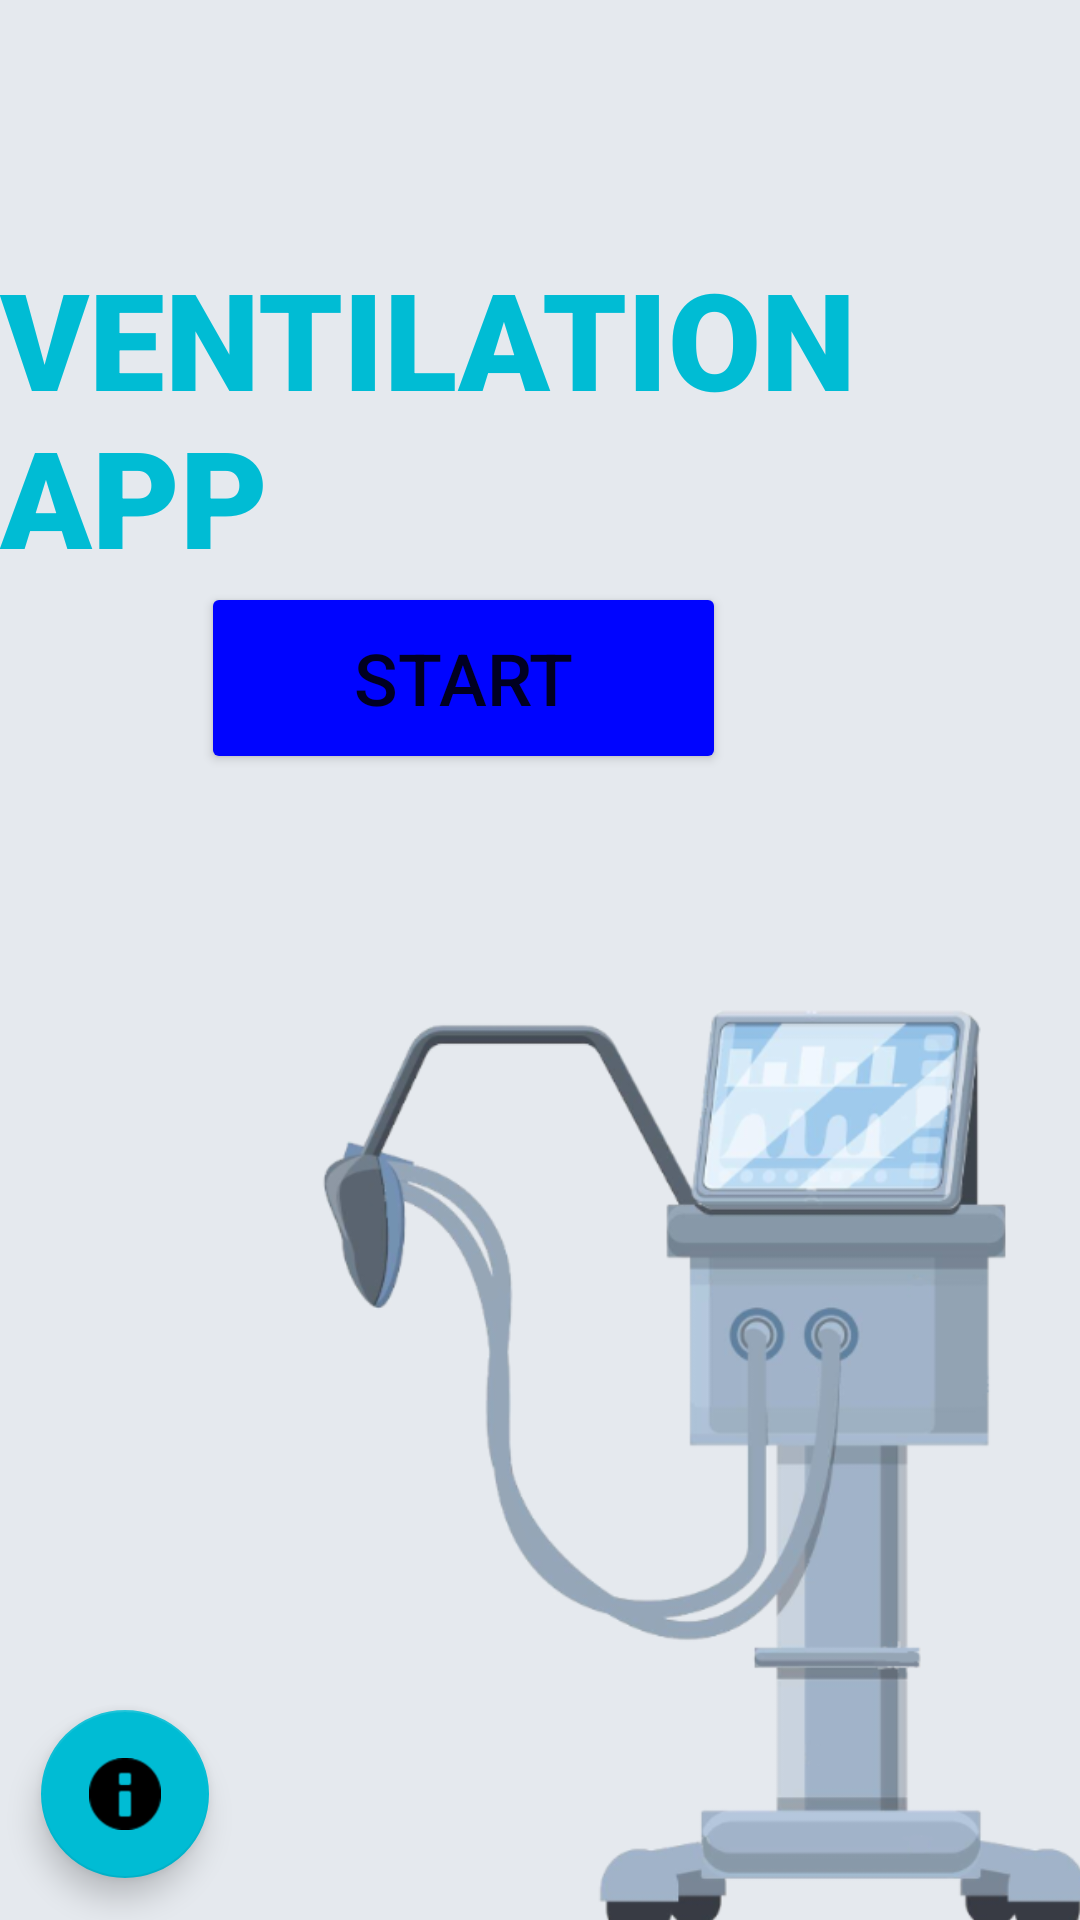

Icon click points for this 1080px x 1920px phone screenshot, format [x,y]:
info: [125,1794]
